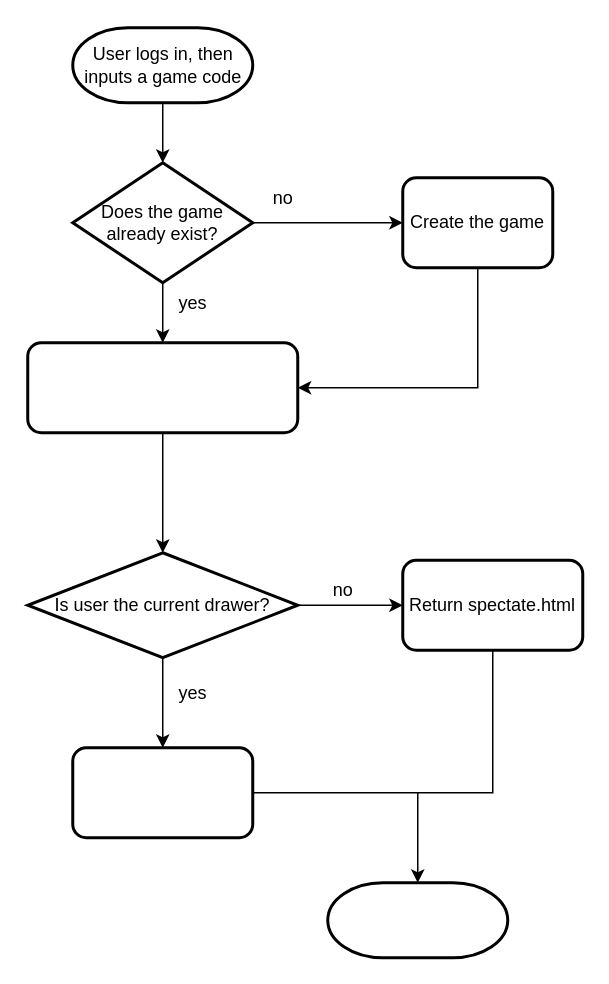
Some shapes in this 609 by 984 pixel diagram are drawn without their labels. The centre of each missing label's shape, as x and y in pixels:
Add the user to the room and redirect them to the correct page: pixel 162 387
End: pixel 417 919
Return game.html: pixel 162 792
